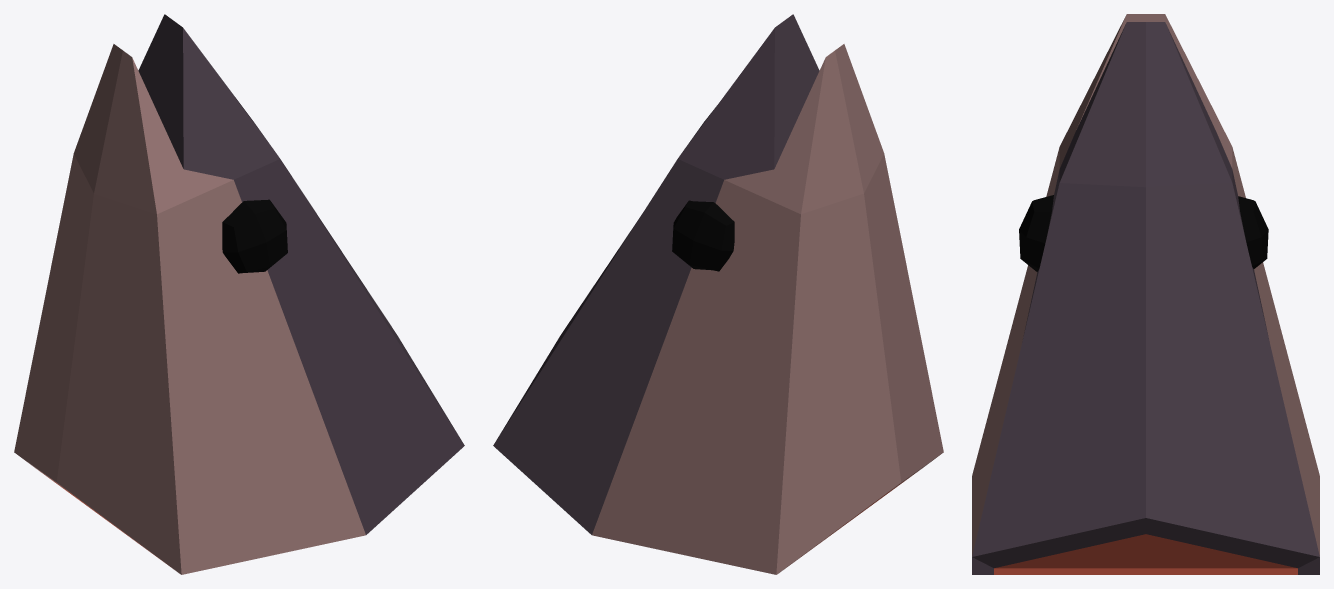
File: salmonHead.fbx
3 renders of one model, left to right at view 1: azimuth 30°, elevation 25°; view 2: azimuth 150°, elevation 25°; view 3: azimuth 270°, elevation 25°, orthographic. The views are drawn at different scales.
Visible parts, largest first — view 1: salmonHead; view 2: salmonHead; view 3: salmonHead.
Boxes of the visible parts, x1,y1,x2,y2 form: salmonHead: (14, 14, 464, 574); salmonHead: (493, 14, 943, 574); salmonHead: (972, 14, 1319, 574).
Bounding box in the file's own units: 15.64 × 21.22 × 13.33.
1 material, 1 textured.
